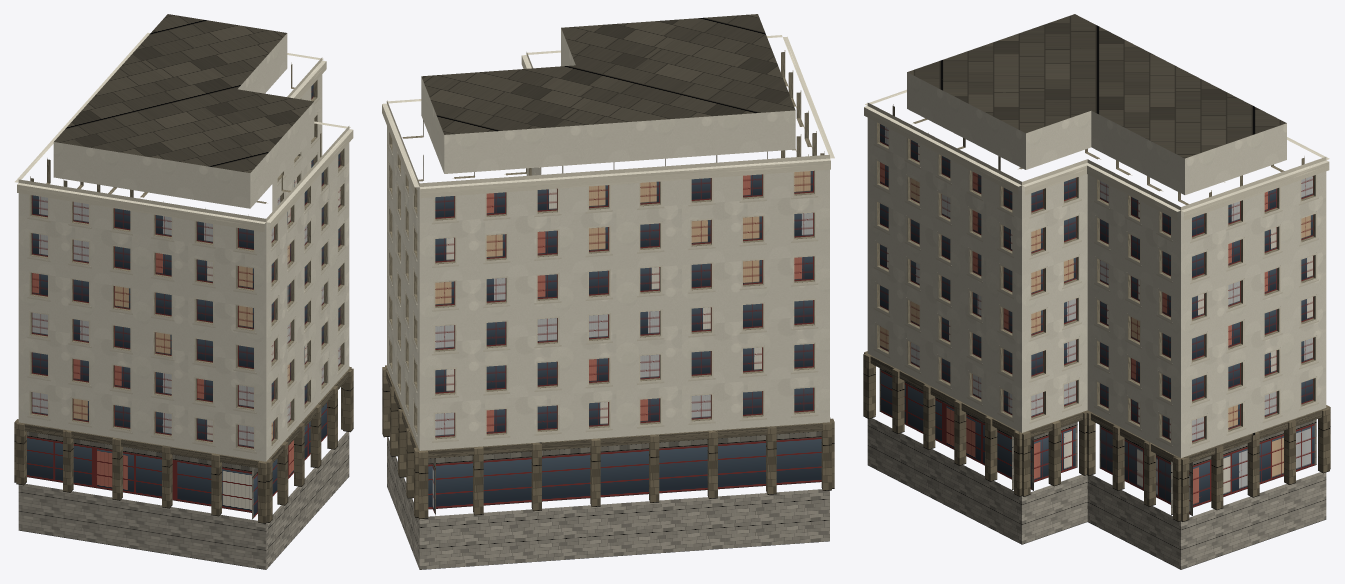
File: k39w3_korn.glb
3 views of the same model, side by side, from view 1: azimuth 30°, elevation 25°; view 2: azimuth 150°, elevation 25°; view 3: azimuth 270°, elevation 25° (orthographic). The views are drawn at different scales.
Visible parts, largest first — view 1: k39w3_korn; view 2: k39w3_korn; view 3: k39w3_korn.
Boxes of the visible parts, x1,y1,x2,y2 form: k39w3_korn: (14,14,353,569); k39w3_korn: (382,14,834,569); k39w3_korn: (863,14,1330,569).
Size of the model in its own units: 27.51 by 27.9 by 29.92.
Materials: 3 (3 with a texture image).
